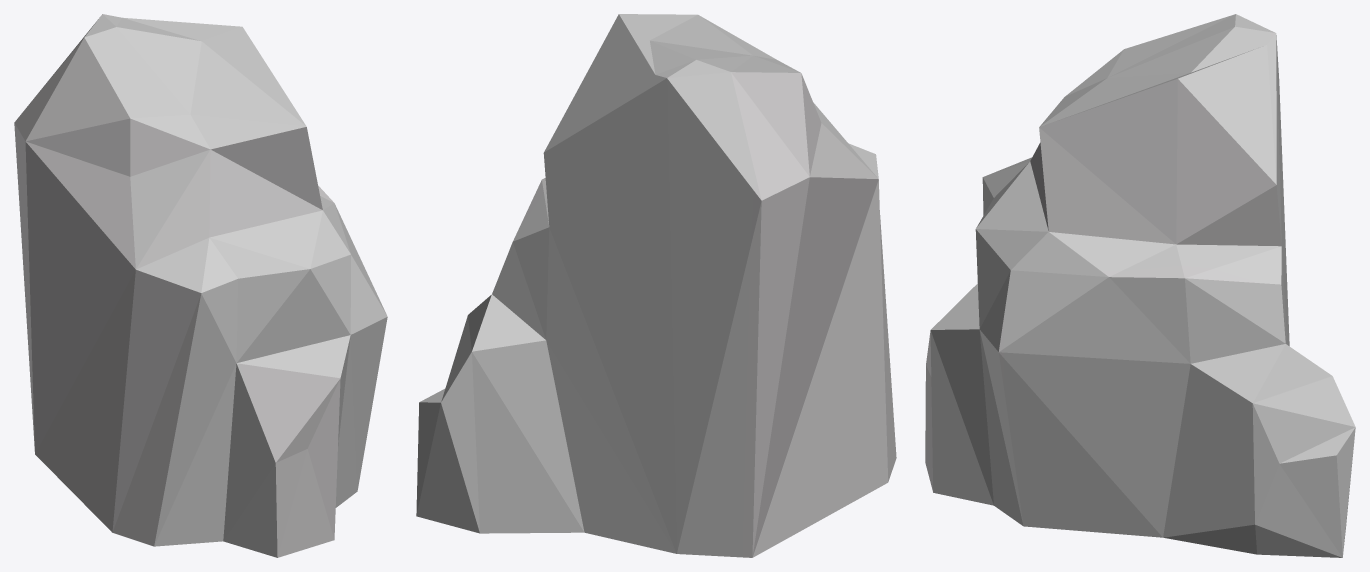
The model's file is TreePackage.fbx_Rocks_9.fbx.
3 renders of one model, left to right at view 1: azimuth 30°, elevation 25°; view 2: azimuth 150°, elevation 25°; view 3: azimuth 270°, elevation 25°, orthographic. The views are drawn at different scales.
Parts seen in each view (by area): view 1: RockCluster.001; view 2: RockCluster.001; view 3: RockCluster.001.
Boxes of the visible parts, left/top/right/bottom form: RockCluster.001: left=14, top=14, right=387, bottom=557; RockCluster.001: left=416, top=14, right=896, bottom=557; RockCluster.001: left=925, top=14, right=1355, bottom=557.
Size of the model in its own units: 124 by 166 by 150.
